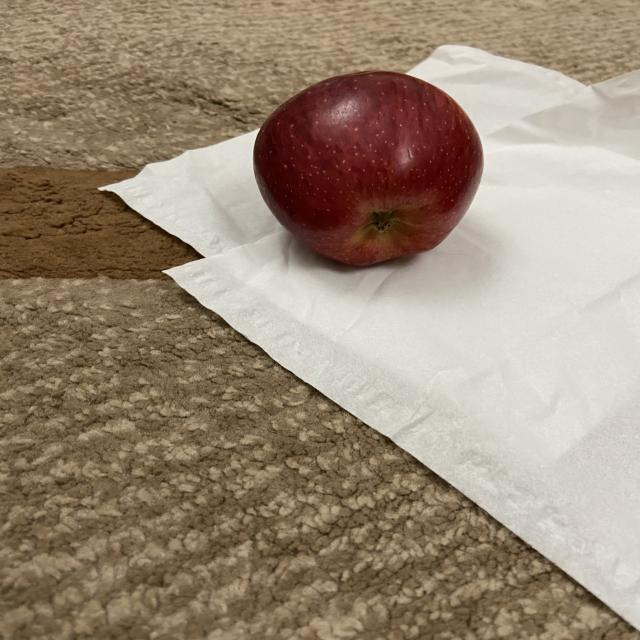apple: (248, 65, 487, 276)
